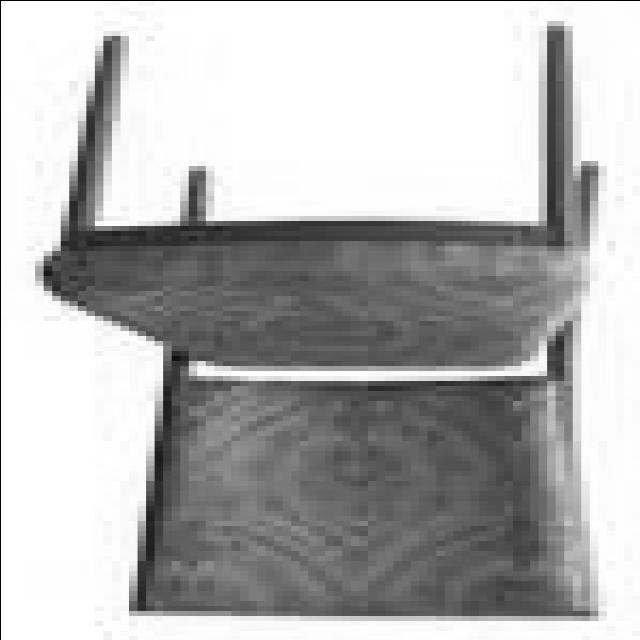chair: (32, 28, 600, 622)
